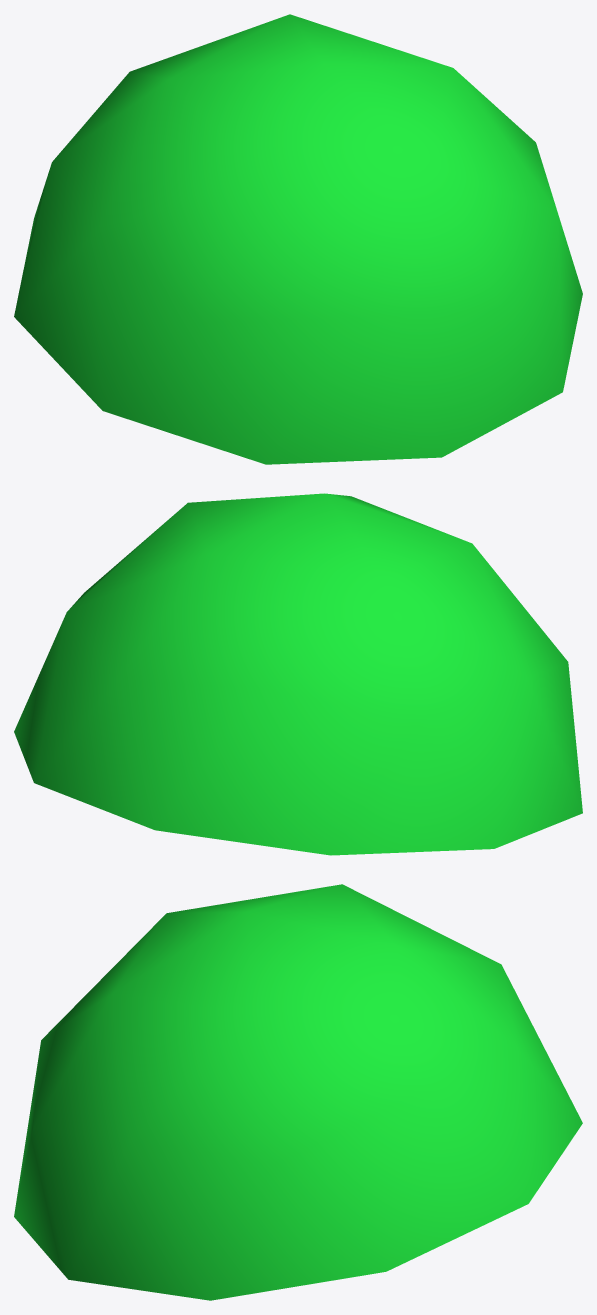
File: Helmet.fbx
3 views of the same model, one above another, from view 1: azimuth 30°, elevation 25°; view 2: azimuth 150°, elevation 25°; view 3: azimuth 270°, elevation 25° (orthographic).
Parts seen in each view (by area): view 1: helmet; view 2: helmet; view 3: helmet.
Part boxes in pixels (<box>): helmet: <box>14,14,582,464</box>; helmet: <box>14,493,582,855</box>; helmet: <box>14,884,582,1300</box>.
Bounding box in the file's own units: 19.02 × 11.63 × 19.68.
